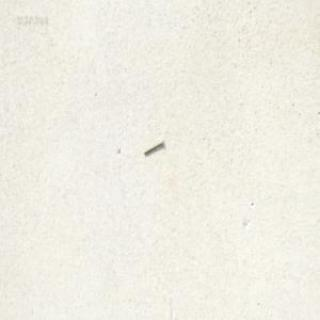Bolttrack_idkeyframe: (142, 138, 163, 155)
